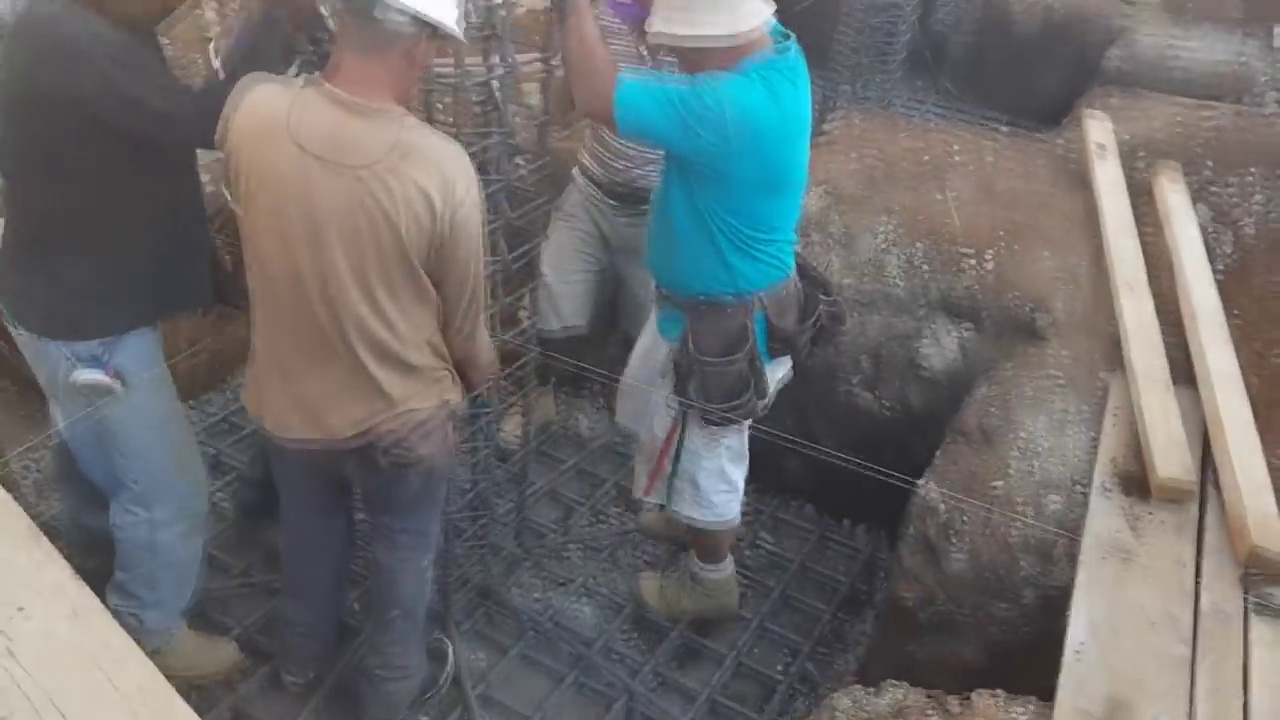helmet-off: (285, 0, 470, 133), (635, 0, 764, 73)
person: (186, 0, 503, 689), (506, 3, 833, 635), (18, 0, 276, 693), (525, 2, 691, 454)
